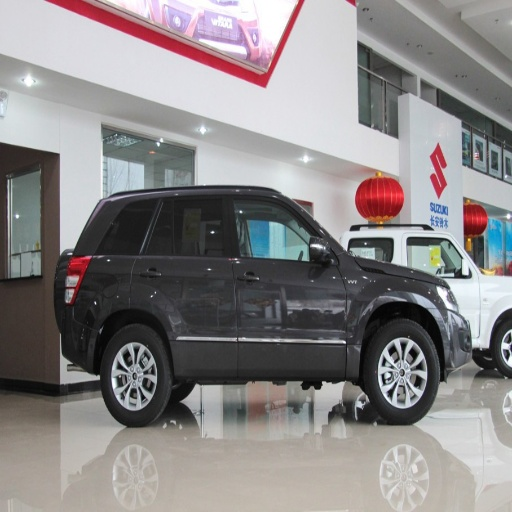back_left_light: (121, 20, 221, 65)
back_right_door: (133, 193, 238, 370)
